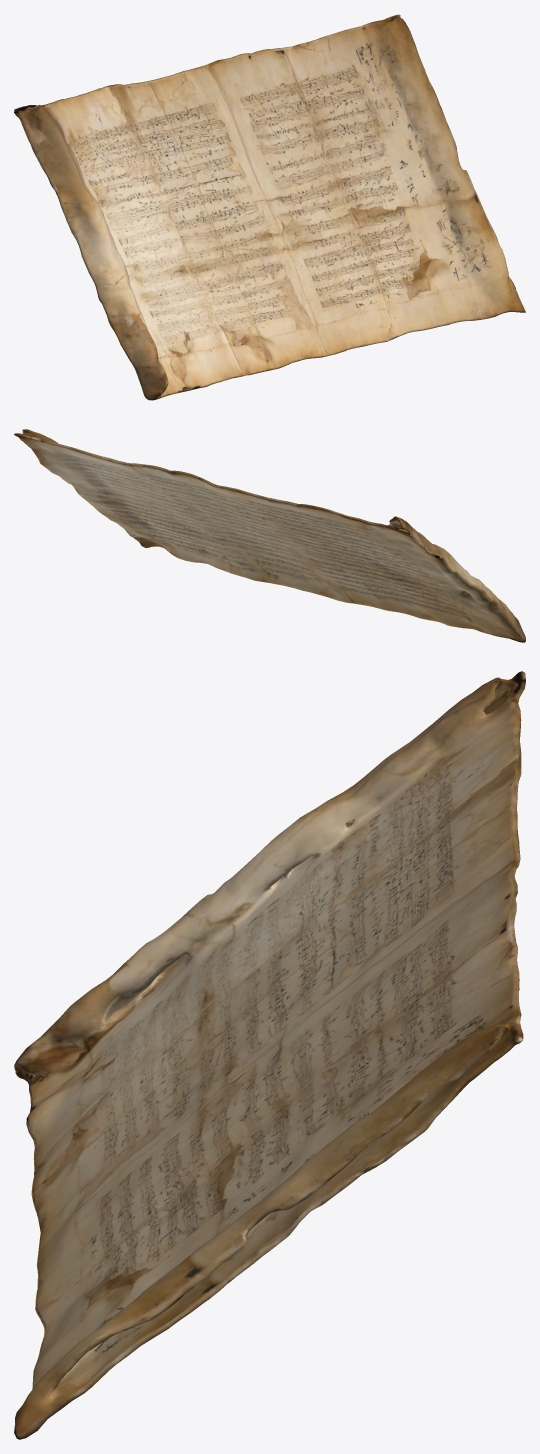
The model's file is A torn parchment.gltf.
The picture shows the model from 3 angles, top to bottom: view 1: azimuth 30°, elevation 25°; view 2: azimuth 150°, elevation 25°; view 3: azimuth 270°, elevation 25°; orthographic projection. The views are drawn at different scales.
Visible parts, largest first — view 1: Mesh1; view 2: Mesh1; view 3: Mesh1.
Boxes of the visible parts, box(x1,y1,x2,y2) form: Mesh1: box(14, 14, 525, 400); Mesh1: box(14, 429, 525, 642); Mesh1: box(14, 671, 525, 1439).
Bounding box in the file's own units: 2 × 1.03 × 1.17.
Materials: 1 (1 with a texture image).
